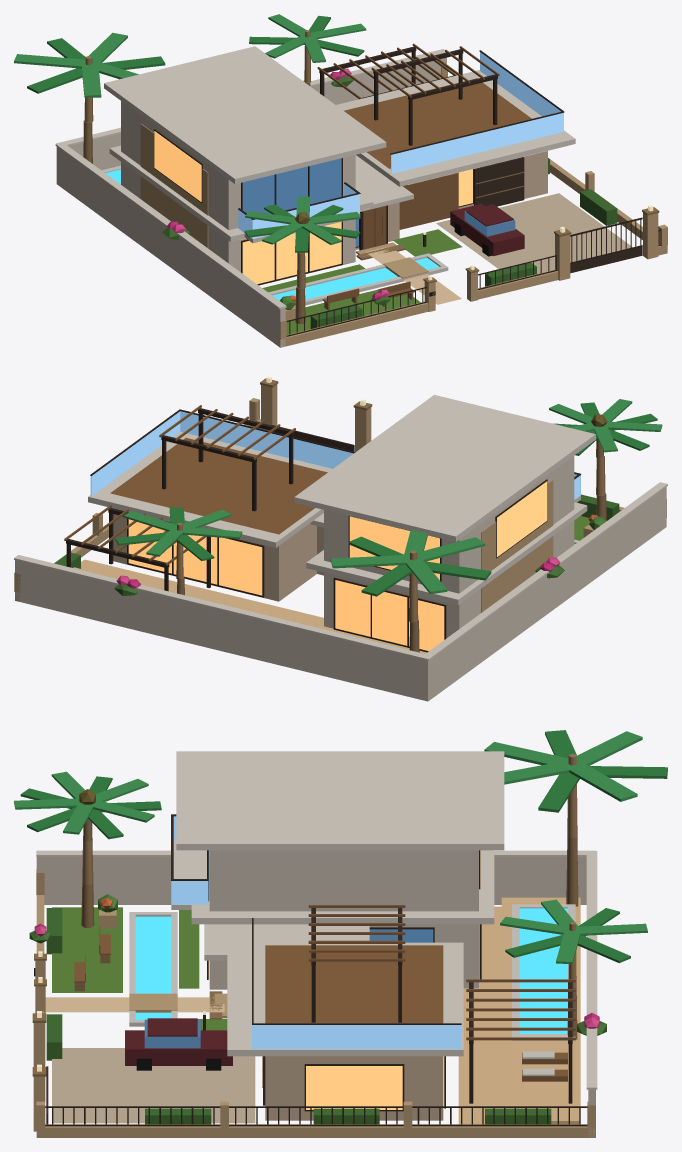
File: villa-c3.glb
The picture shows the model from 3 angles, top to bottom: view 1: azimuth 30°, elevation 25°; view 2: azimuth 150°, elevation 25°; view 3: azimuth 270°, elevation 25°; orthographic projection. The views are drawn at different scales.
Size of the model in its own units: 24.39 by 6.94 by 25.73.
